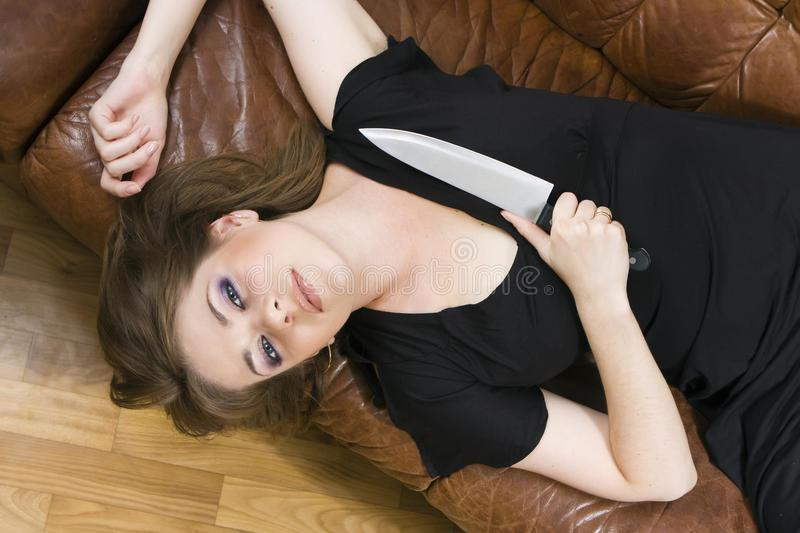criminal: (84, 0, 800, 533)
weapon: (353, 123, 655, 273)
